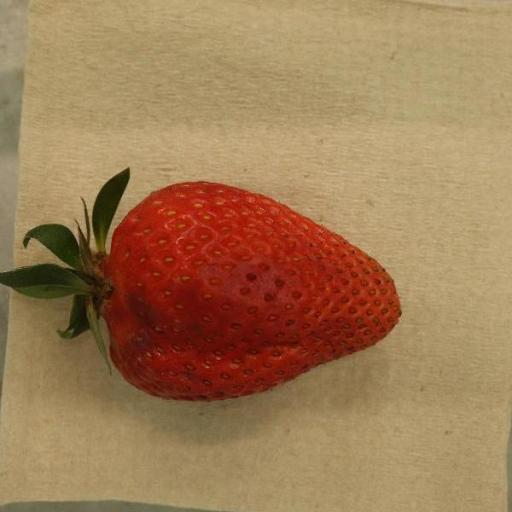Strawberry: (0, 168, 403, 403)
